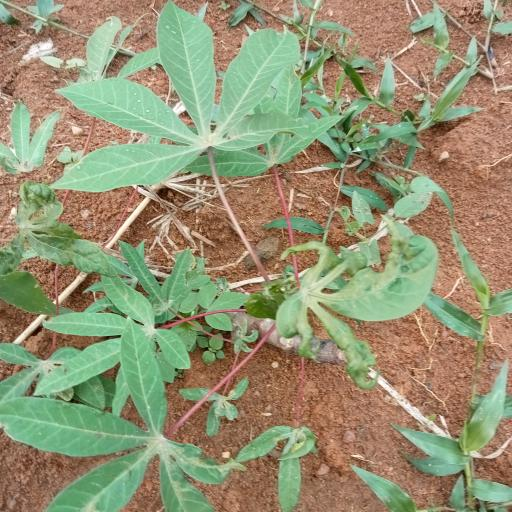Cassava_Healthy: (50, 7, 311, 198)
